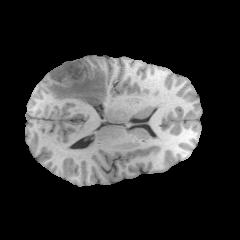glioma: (42, 60, 113, 106)
